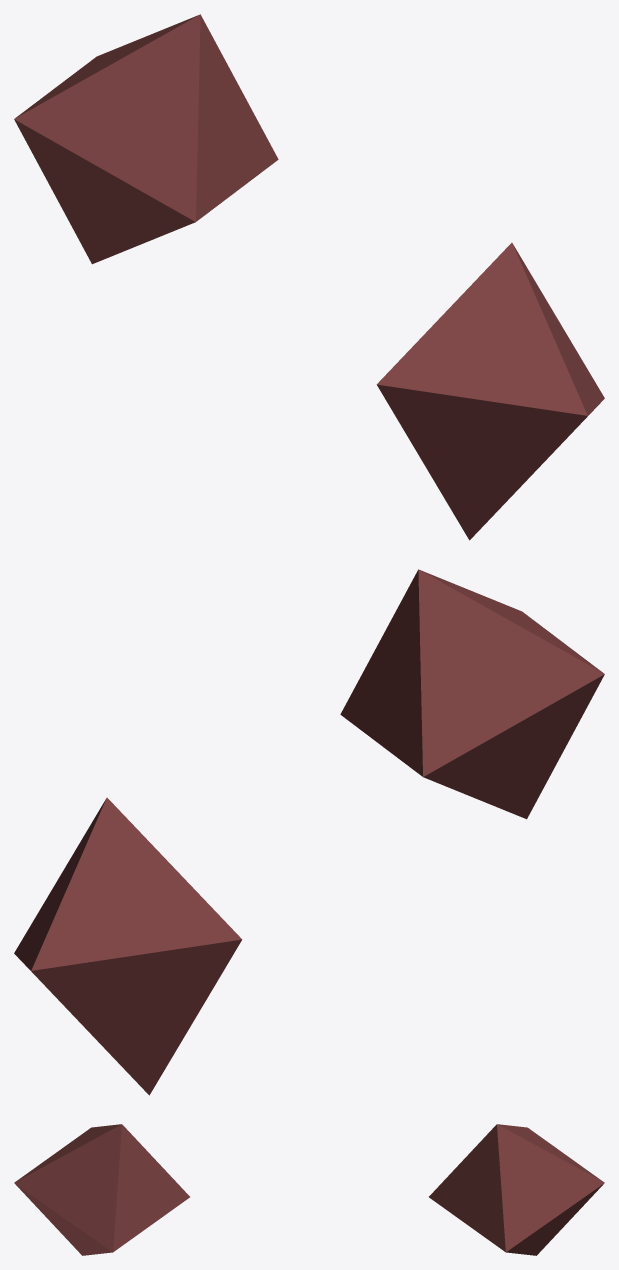
Rendered from ITPFX_BELIARWEAPON_1H_EYES.OBJ.
3 views of the same model, one above another, from view 1: azimuth 30°, elevation 25°; view 2: azimuth 150°, elevation 25°; view 3: azimuth 270°, elevation 25° (orthographic). The views are drawn at different scales.
Visible parts, largest first — view 1: ITPFX_BELIARWEAPON_1H_EYES; view 2: ITPFX_BELIARWEAPON_1H_EYES; view 3: ITPFX_BELIARWEAPON_1H_EYES.
Part boxes in pixels (<box>): ITPFX_BELIARWEAPON_1H_EYES: <box>14,14,604,540</box>; ITPFX_BELIARWEAPON_1H_EYES: <box>14,569,604,1095</box>; ITPFX_BELIARWEAPON_1H_EYES: <box>14,1124,604,1255</box>.
Bounding box in the file's own units: 0.0174 × 0.0173 × 0.0601.
